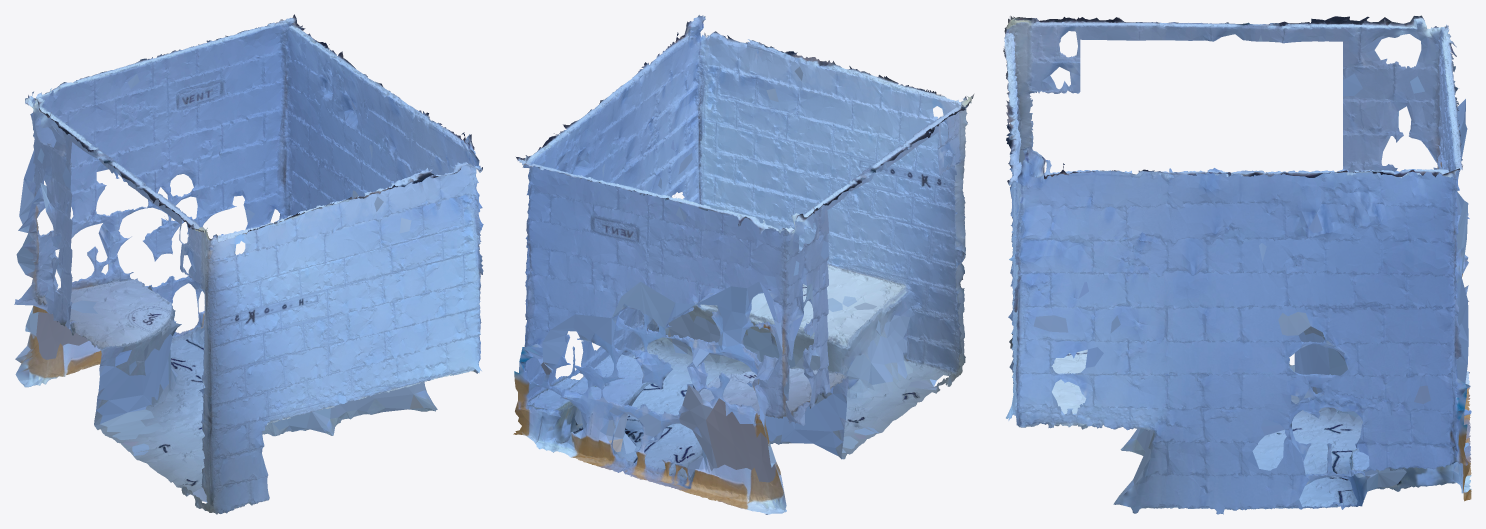
3 views of the same model, side by side, from view 1: azimuth 30°, elevation 25°; view 2: azimuth 150°, elevation 25°; view 3: azimuth 270°, elevation 25° (orthographic). The views are drawn at different scales.
Visible parts, largest first — view 1: Danay; view 2: Danay; view 3: Danay.
Boxes of the visible parts, x1,y1,x2,y2 form: Danay: (14, 14, 483, 514); Danay: (513, 15, 973, 514); Danay: (1003, 15, 1471, 514).
Size of the model in its own units: 0.2837 by 0.2958 by 0.3335.
1 material, 1 textured.
